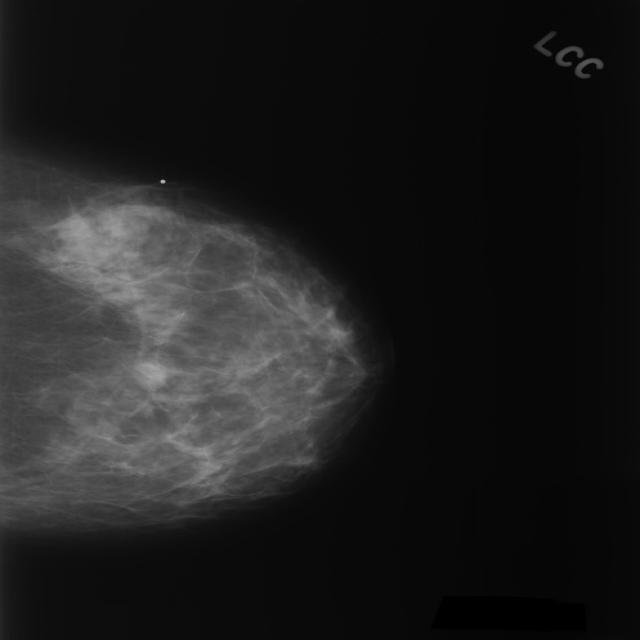tumour: (129, 359, 165, 390)
